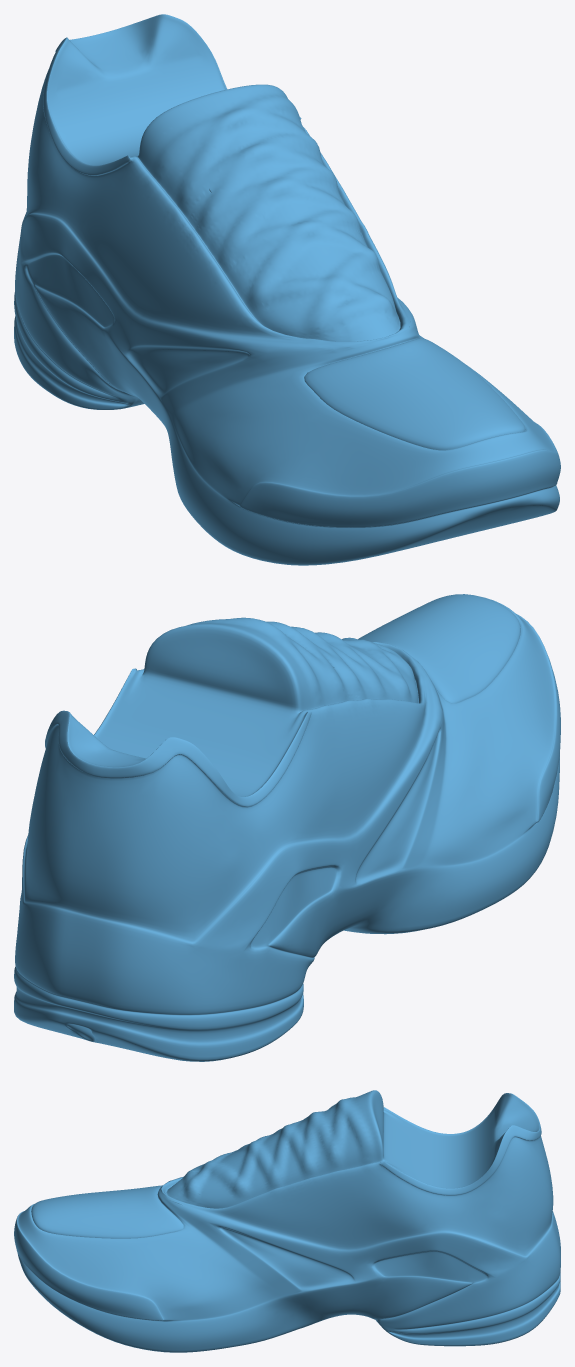
Rendered from shoes 1.fbx.
3 renders of one model, top to bottom at view 1: azimuth 30°, elevation 25°; view 2: azimuth 150°, elevation 25°; view 3: azimuth 270°, elevation 25°, orthographic. The views are drawn at different scales.
Visible parts, largest first — view 1: node_id5; view 2: node_id5; view 3: node_id5.
Boxes of the visible parts, x1,y1,x2,y2 form: node_id5: (14, 14, 560, 565); node_id5: (14, 594, 560, 1061); node_id5: (14, 1090, 560, 1352).
Size of the model in its own units: 0.4689 by 0.512 by 1.2.
Materials: 1 (1 with a texture image).
